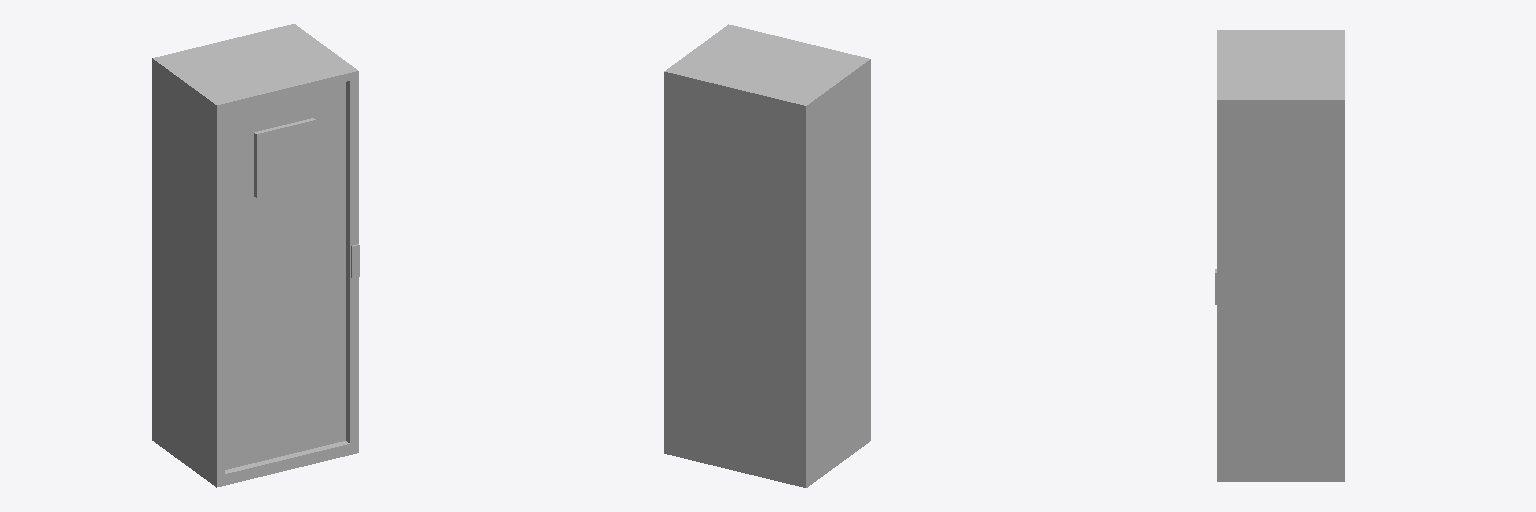
The model's file is UPS-铁柜1.obj.
3 renders of one model, left to right at view 1: azimuth 30°, elevation 25°; view 2: azimuth 150°, elevation 25°; view 3: azimuth 270°, elevation 25°, orthographic.
Parts seen in each view (by area): view 1: Box006, Box008; view 2: Box006; view 3: Box006.
Part boxes in pixels (x1,y1,x2,y2): Box006: (152,24,358,487); Box008: (254,118,315,197); Box006: (664,24,870,487); Box006: (1217,30,1344,481).
Bounding box in the file's own units: 27.56 × 70.87 × 21.97.